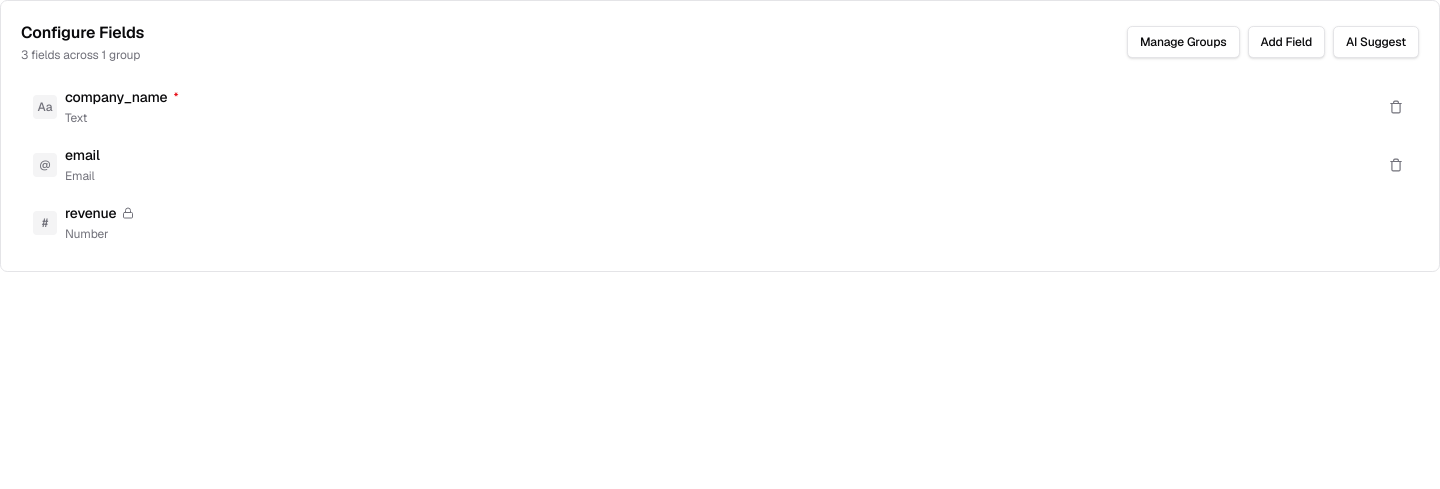
InlineFieldManager › add field validation › shows error when field name is not snake_case
Click the button with aria-label "Add a new field" at (1286,42), box [1248,26,1325,58]
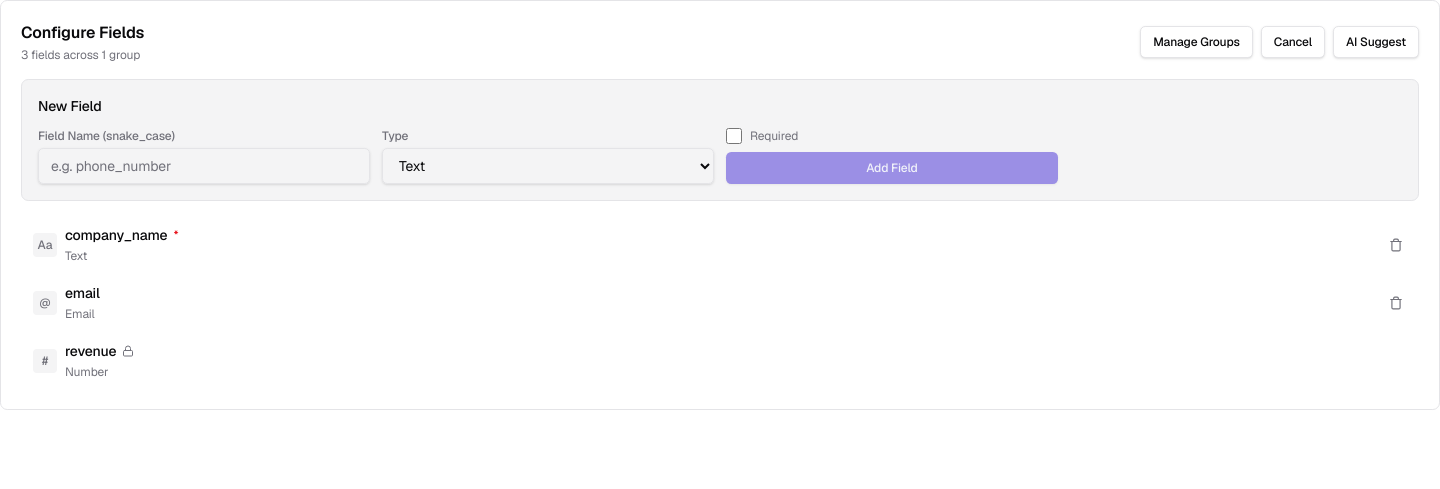
Type "BadName" into the field labelled "Field Name (snake_case)" at (204,166), box [38,148,370,184]
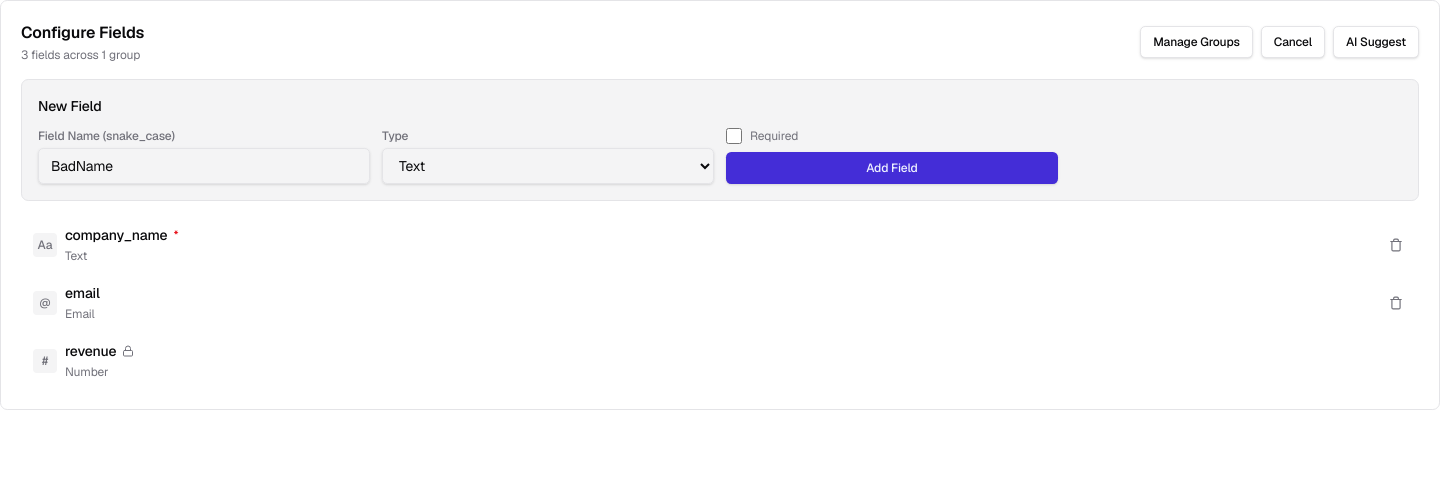
Click the button "Add Field" at (892,168), box [726,152,1058,184]
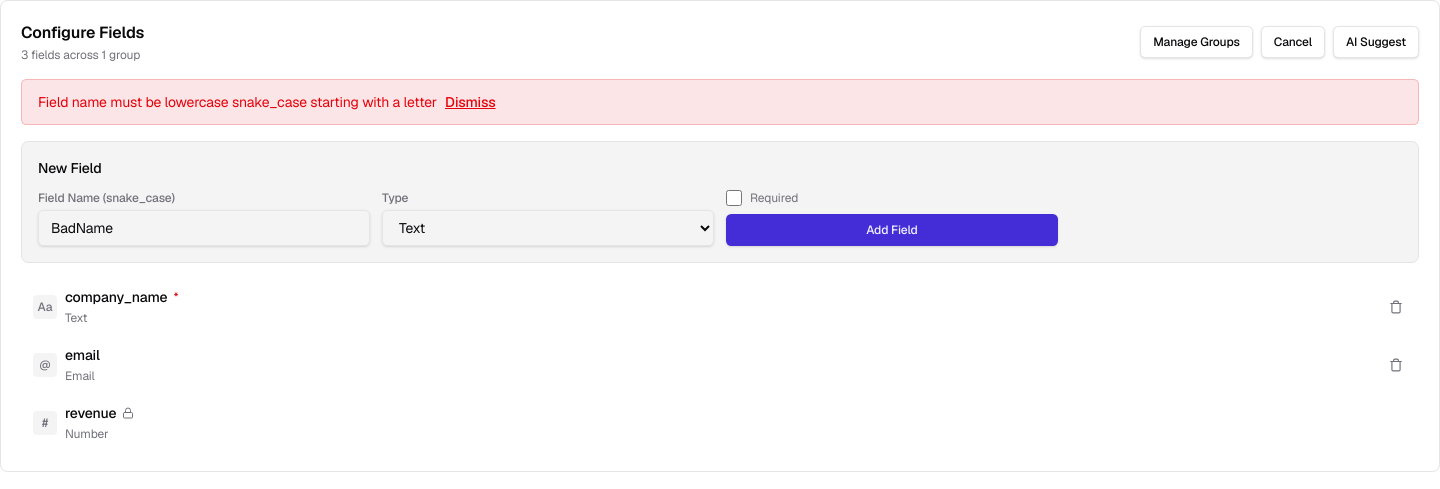
Check: the message shows "lowercase snake_case", box [38,93,437,111]
